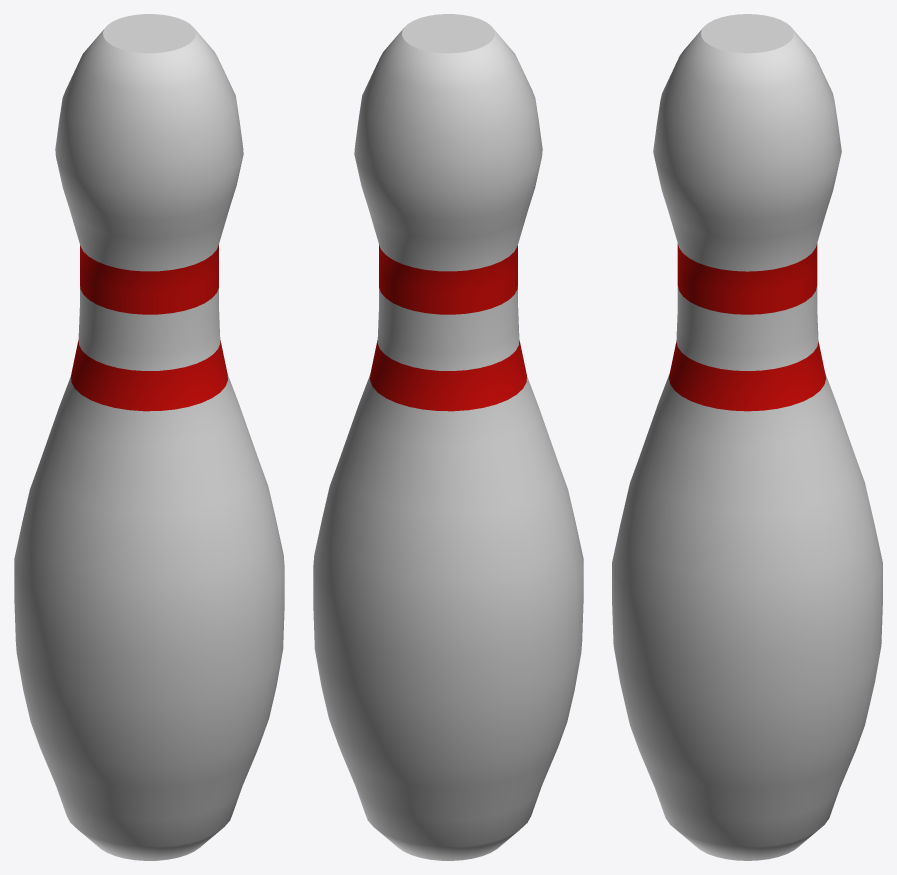
Rendered from pin_bowl.fbx.
3 views of the same model, side by side, from view 1: azimuth 30°, elevation 25°; view 2: azimuth 150°, elevation 25°; view 3: azimuth 270°, elevation 25° (orthographic).
Parts seen in each view (by area): view 1: Cylinder; view 2: Cylinder; view 3: Cylinder.
Part boxes in pixels (left/top/right/bottom): Cylinder: left=14, top=14, right=284, bottom=860; Cylinder: left=313, top=14, right=583, bottom=860; Cylinder: left=612, top=14, right=882, bottom=860.
Size of the model in its own units: 245 by 802 by 245.
